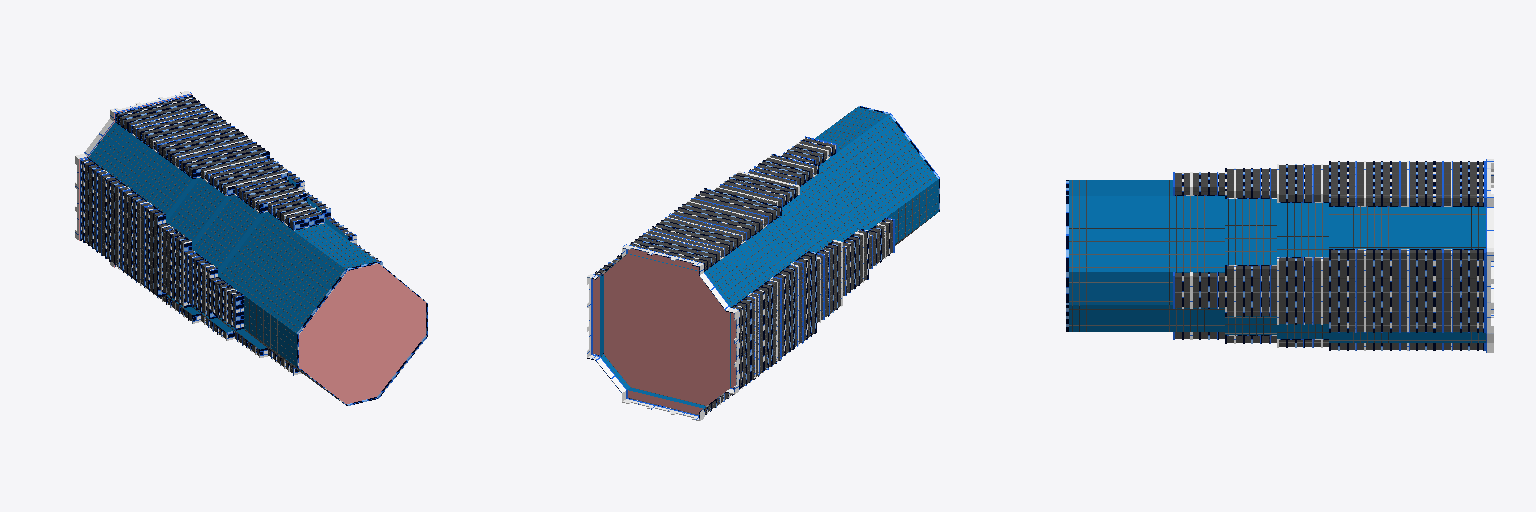
3 renders of one model, left to right at view 1: azimuth 30°, elevation 25°; view 2: azimuth 150°, elevation 25°; view 3: azimuth 270°, elevation 25°, orthographic.
Visible parts, largest first — view 1: glass_01, slab_01, glass_1_02, wall_07, wall_01, glass_1_01, glass_02, frame_01, glass_03; view 2: slab_01, glass_01, glass_1_02, wall_01, glass_1_01, frame_01, glass_02, wall_07; view 3: glass_01, glass_1_02, glass_1_01, wall_01, glass_02, frame_01, wall_07.
Boxes of the visible parts, box(x1,y1,x2,y2) form: glass_01: box(88, 123, 376, 399); slab_01: box(79, 94, 425, 403); glass_1_02: box(82, 97, 301, 320); wall_07: box(75, 91, 427, 405); wall_01: box(80, 95, 381, 375); glass_1_01: box(159, 155, 379, 372); glass_02: box(167, 177, 259, 338); frame_01: box(82, 97, 377, 403); glass_03: box(166, 177, 347, 349); slab_01: box(593, 249, 735, 414); glass_01: box(600, 107, 938, 408); glass_1_02: box(595, 190, 814, 414); wall_01: box(592, 136, 894, 416); glass_1_01: box(715, 138, 892, 322); frame_01: box(600, 108, 938, 413); glass_02: box(782, 174, 859, 252); wall_07: box(587, 195, 880, 420); glass_01: box(1069, 180, 1485, 342); glass_1_02: box(1331, 163, 1482, 349); glass_1_01: box(1175, 165, 1328, 346); wall_01: box(1173, 161, 1485, 350); glass_02: box(1225, 199, 1328, 338); frame_01: box(1069, 162, 1485, 342); wall_07: box(1486, 159, 1493, 352).
Bounding box in the file's own units: 2364 × 2364 × 5932.
5 materials, 1 textured.